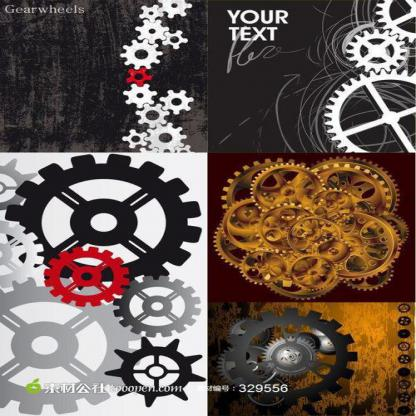FOD: (324, 69, 415, 152), (44, 246, 131, 309)
